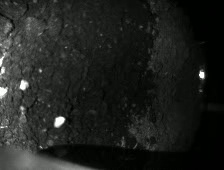corn: (51, 113, 68, 131), (18, 77, 31, 93)
